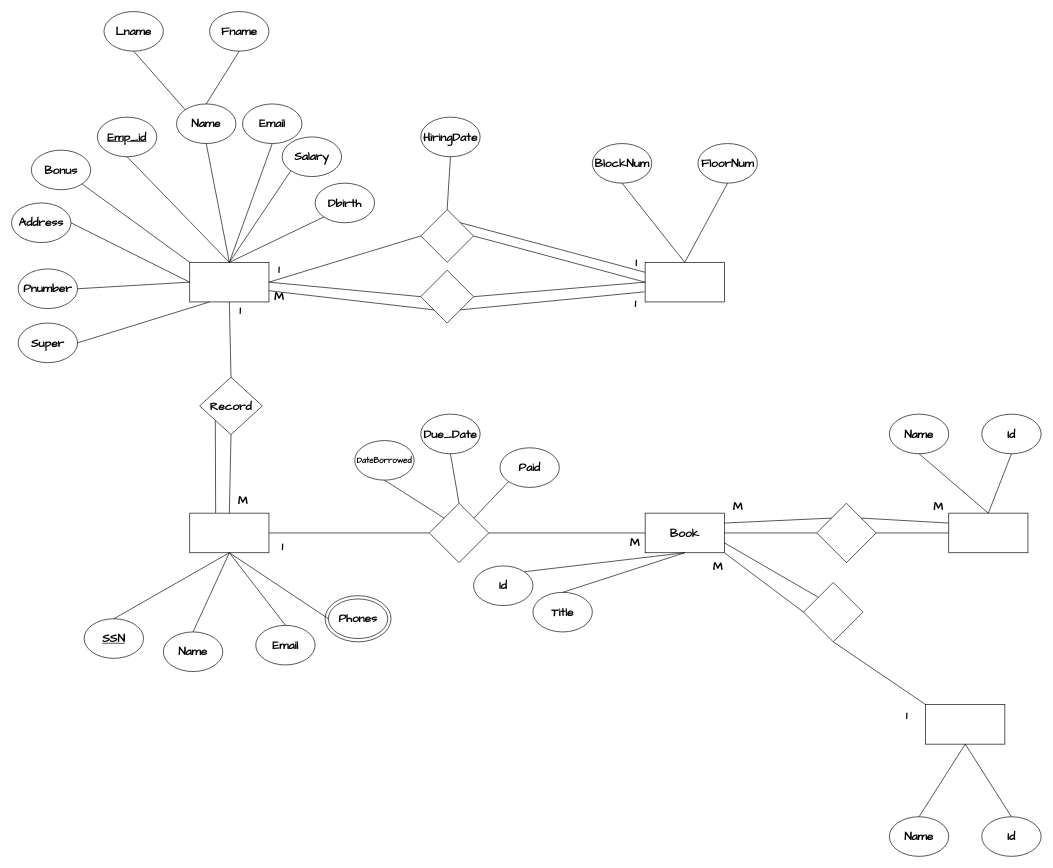
This 1053x868 diagram has some shape labels left out. Here are the shapes that lost their labels. From the top down, the centre of each, then its label:
At [447,235]: "Manage".
At [229,282]: "Employee".
At [447,296]: "Work".
At [684,282]: "Floor".
At [229,532]: "User".
At [459,533]: "Borrow".
At [846,533]: "Has".
At [988,532]: "Author".
At [833,612]: "Publish".
At [965,724]: "Publisher".
